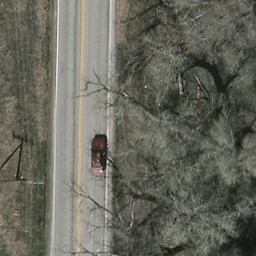car: (89, 134, 109, 174)
